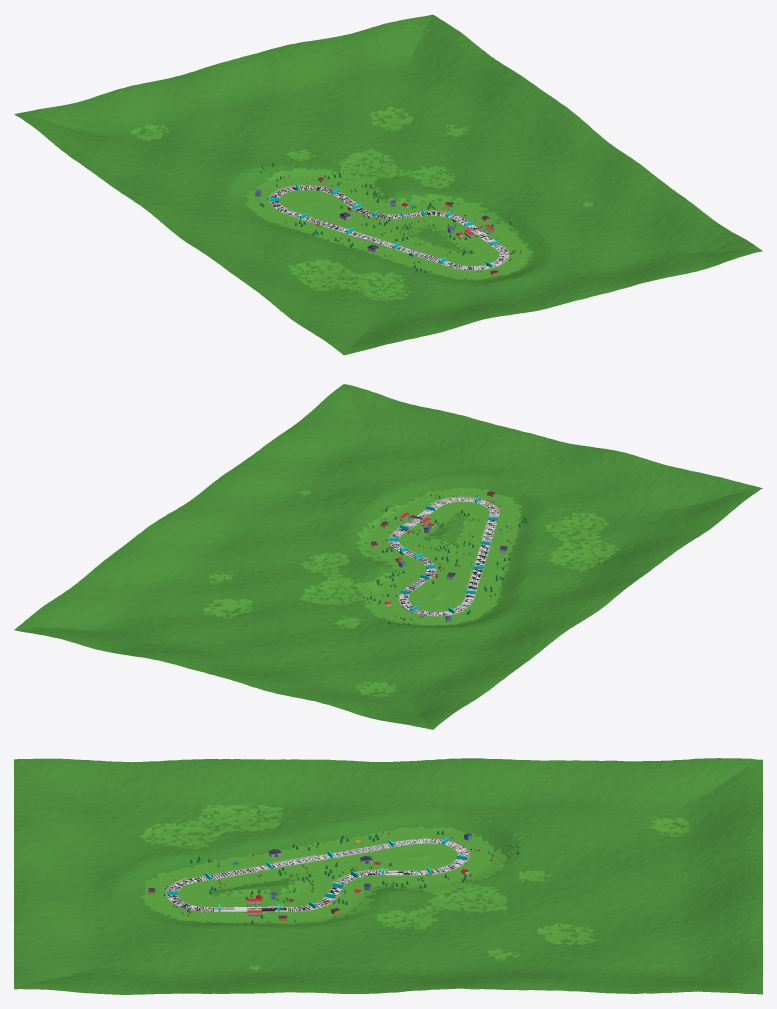
The model's file is trat2.fbx.
3 views of the same model, one above another, from view 1: azimuth 30°, elevation 25°; view 2: azimuth 150°, elevation 25°; view 3: azimuth 270°, elevation 25° (orthographic). The views are drawn at different scales.
Visible parts, largest first — view 1: Terrain_R4C2, Terrain_R4C1, Terrain_R4C3, Terrain_R3C3, Terrain_R2C3, Terrain_R1C3, Terrain_R3C2, Terrain_R3C1, Terrain_R2C2, Terrain_R4C0, Terrain_R0C3, Terrain_R3C0 (+10 smaller); view 2: Terrain_R0C1, Terrain_R0C3, Terrain_R0C2, Terrain_R3C3, Terrain_R2C3, Terrain_R1C3, Terrain_R0C0, Terrain_R3C2, Terrain_R2C2, Terrain_R4C3, Terrain_R1C2, Terrain_R3C1 (+10 smaller); view 3: Terrain_R2C0, Terrain_R1C0, Terrain_R3C0, Terrain_R4C0, Terrain_R0C0, Terrain_R0C1, Terrain_R3C1, Terrain_R3C2, Terrain_R4C2, Terrain_R0C2, Terrain_R4C1, Terrain_R1C1 (+10 smaller).
Boxes of the visible parts, x1=… form: Terrain_R4C2: x1=223, y1=38, x2=393, y2=121; Terrain_R4C1: x1=119, y1=62, x2=289, y2=146; Terrain_R4C3: x1=328, y1=14, x2=498, y2=95; Terrain_R3C3: x1=394, y1=61, x2=564, y2=145; Terrain_R2C3: x1=461, y1=106, x2=630, y2=193; Terrain_R1C3: x1=526, y1=158, x2=696, y2=239; Terrain_R3C2: x1=290, y1=96, x2=459, y2=172; Terrain_R3C1: x1=185, y1=121, x2=355, y2=199; Terrain_R2C2: x1=356, y1=145, x2=525, y2=221; Terrain_R4C0: x1=14, y1=89, x2=184, y2=163; Terrain_R0C3: x1=592, y1=207, x2=762, y2=279; Terrain_R3C0: x1=80, y1=146, x2=249, y2=209; Terrain_R0C1: x1=488, y1=439, x2=657, y2=523; Terrain_R0C3: x1=278, y1=384, x2=448, y2=468; Terrain_R0C2: x1=384, y1=412, x2=552, y2=499; Terrain_R3C3: x1=80, y1=528, x2=250, y2=615; Terrain_R2C3: x1=146, y1=483, x2=317, y2=567; Terrain_R1C3: x1=212, y1=436, x2=383, y2=519; Terrain_R0C0: x1=592, y1=462, x2=762, y2=537; Terrain_R3C2: x1=184, y1=568, x2=355, y2=639; Terrain_R2C2: x1=251, y1=519, x2=419, y2=594; Terrain_R4C3: x1=14, y1=580, x2=183, y2=653; Terrain_R1C2: x1=318, y1=468, x2=486, y2=547; Terrain_R3C1: x1=290, y1=595, x2=460, y2=665; Terrain_R2C0: x1=312, y1=758, x2=464, y2=834; Terrain_R1C0: x1=162, y1=759, x2=314, y2=832; Terrain_R3C0: x1=462, y1=758, x2=614, y2=833; Terrain_R4C0: x1=612, y1=758, x2=762, y2=832; Terrain_R0C0: x1=14, y1=758, x2=164, y2=832; Terrain_R0C1: x1=14, y1=817, x2=164, y2=891; Terrain_R3C1: x1=462, y1=826, x2=614, y2=890; Terrain_R3C2: x1=462, y1=886, x2=614, y2=947; Terrain_R4C2: x1=612, y1=874, x2=762, y2=945; Terrain_R0C2: x1=14, y1=878, x2=164, y2=947; Terrain_R4C1: x1=612, y1=818, x2=762, y2=886; Terrain_R1C1: x1=162, y1=829, x2=314, y2=892.
Size of the model in its own units: 70400 by 2754 by 96000.
